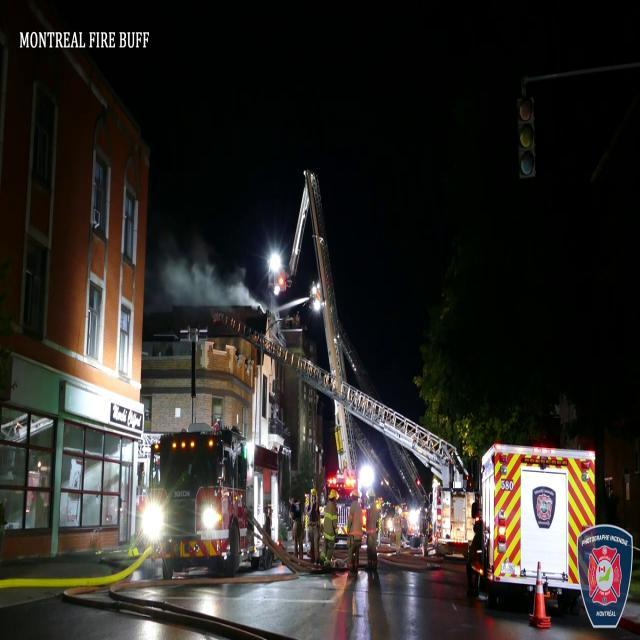Smoke: (158, 238, 250, 306)
